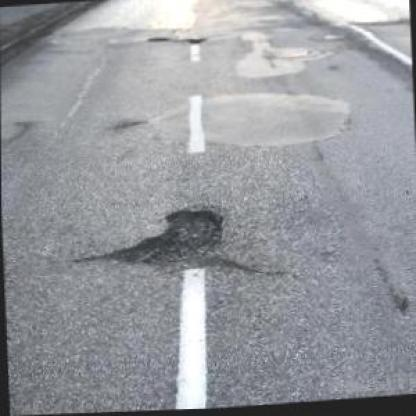pothole: (112, 205, 232, 276), (184, 35, 206, 47), (146, 35, 169, 43)
